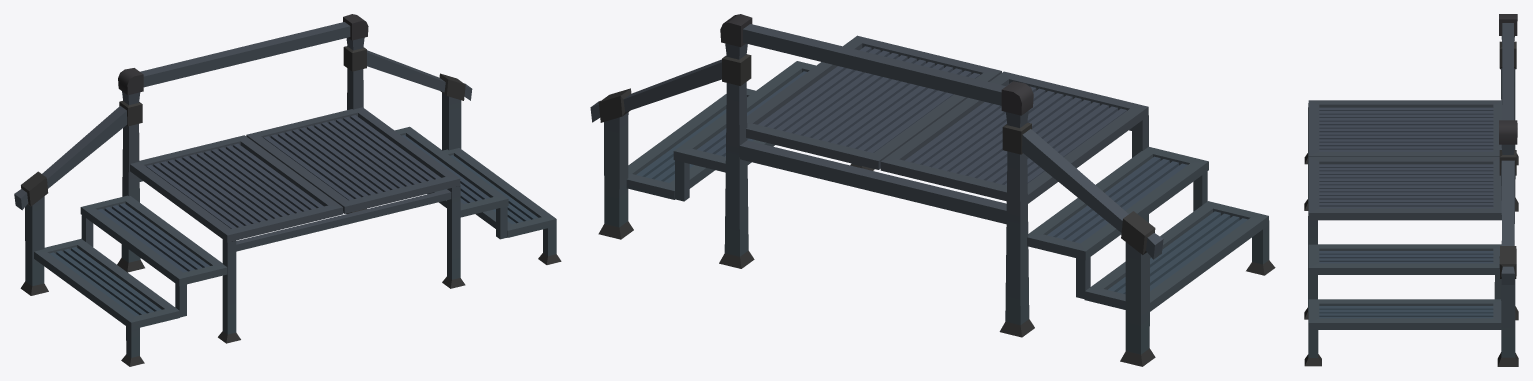
File: Stairs_1_H.fbx
The picture shows the model from 3 angles, left to right: view 1: azimuth 30°, elevation 25°; view 2: azimuth 150°, elevation 25°; view 3: azimuth 270°, elevation 25°; orthographic projection. The views are drawn at different scales.
Parts seen in each view (by area): view 1: Stairs_1_H; view 2: Stairs_1_H; view 3: Stairs_1_H.
Boxes of the visible parts, <box> form: Stairs_1_H: <box>14,14,561,366</box>; Stairs_1_H: <box>590,14,1275,366</box>; Stairs_1_H: <box>1304,14,1518,366</box>.
Size of the model in its own units: 307 by 126 by 127.
